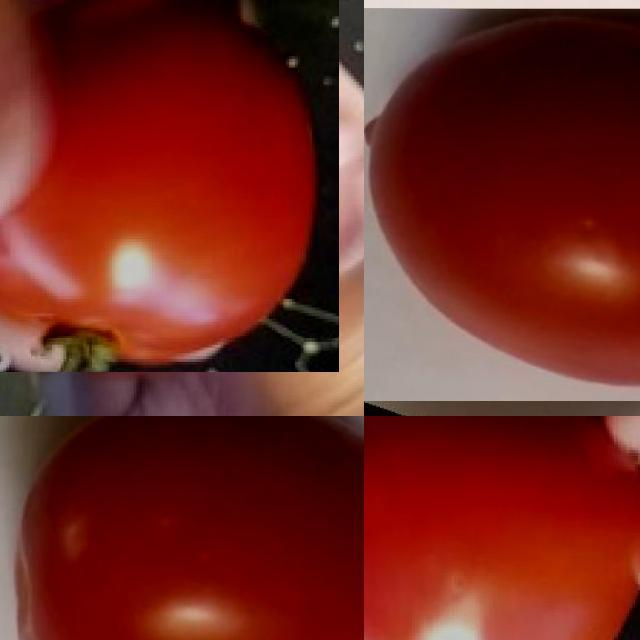Fresh Tomato: (0, 0, 338, 371), (364, 8, 640, 401), (0, 416, 364, 640), (364, 416, 640, 640)
